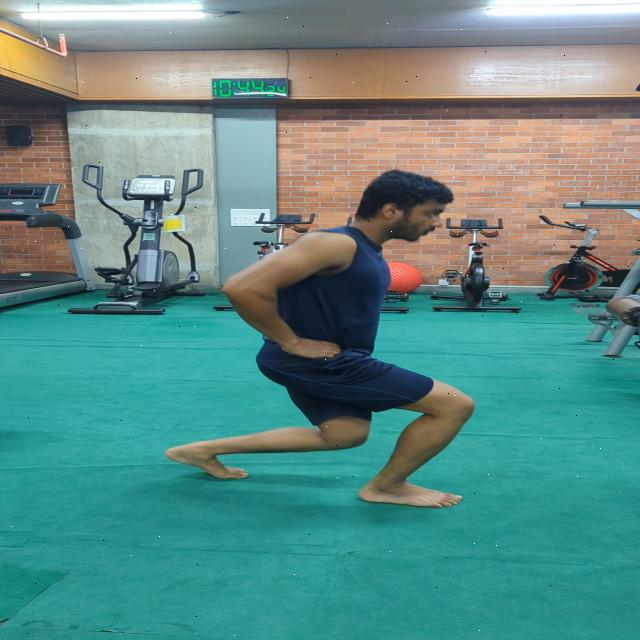Normal_Lunges: (161, 170, 481, 513)
